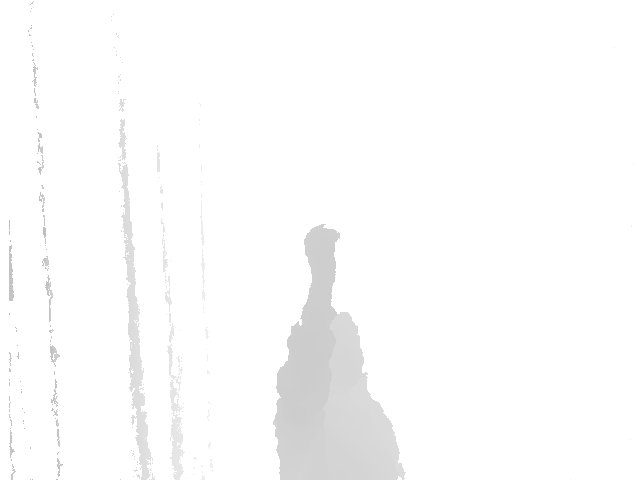hand: (300, 221, 342, 281)
head: (275, 309, 366, 398)
person: (272, 221, 407, 479)
